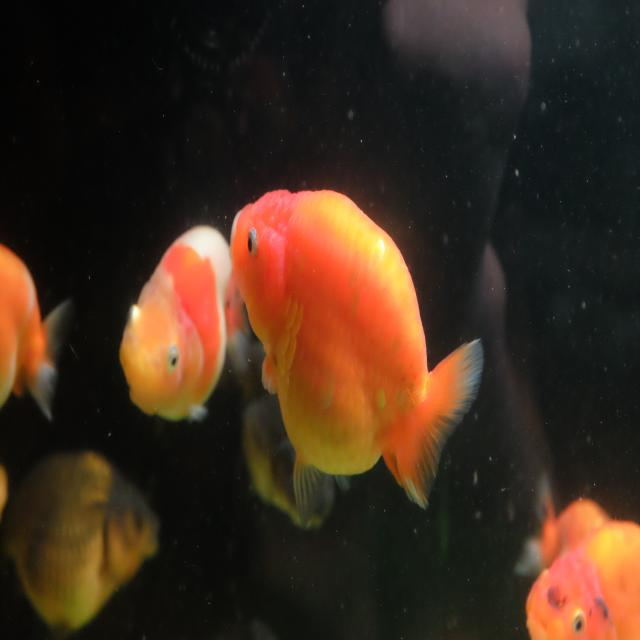Tilapia: (230, 187, 484, 532), (0, 449, 162, 633), (119, 222, 248, 427), (524, 517, 640, 640), (0, 236, 72, 430)
